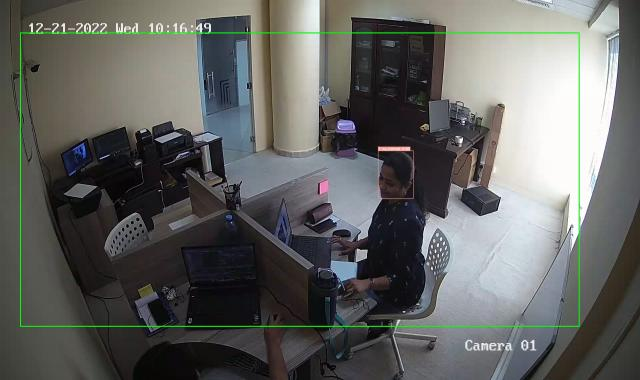no_hairnet: (378, 153, 413, 201)
